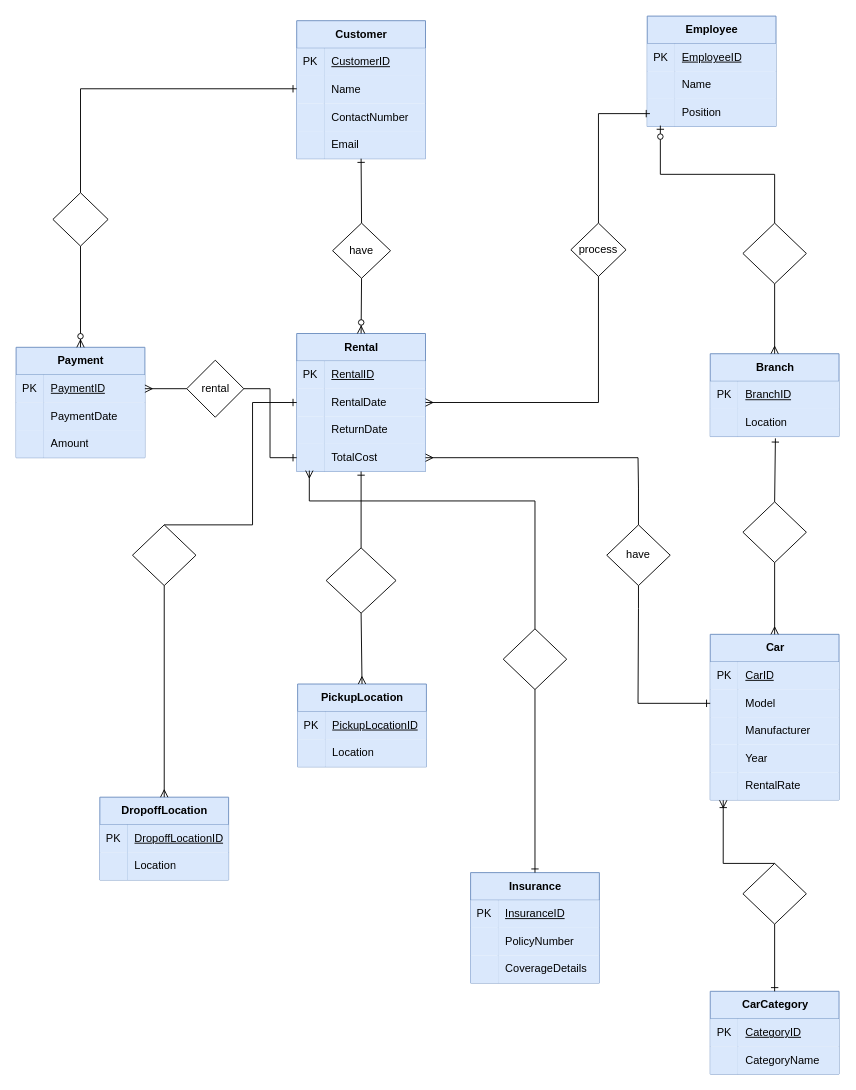
Some shapes in this 856 by 1090 pixel diagram are drawn without their labels. Each missing label, with the centre of its shape:
belongs: (774,893)
covers: (534,659)
makes: (80,219)
manages: (774,253)
pickedup: (360,580)
returned: (164,555)
stores: (774,532)
